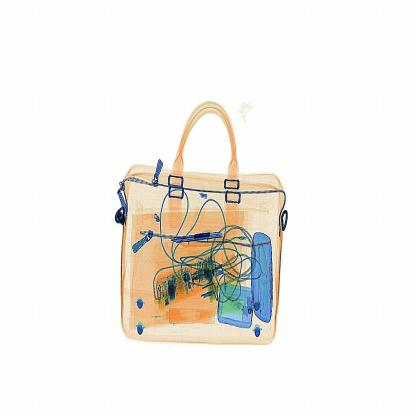pliers: (164, 229, 234, 258)
